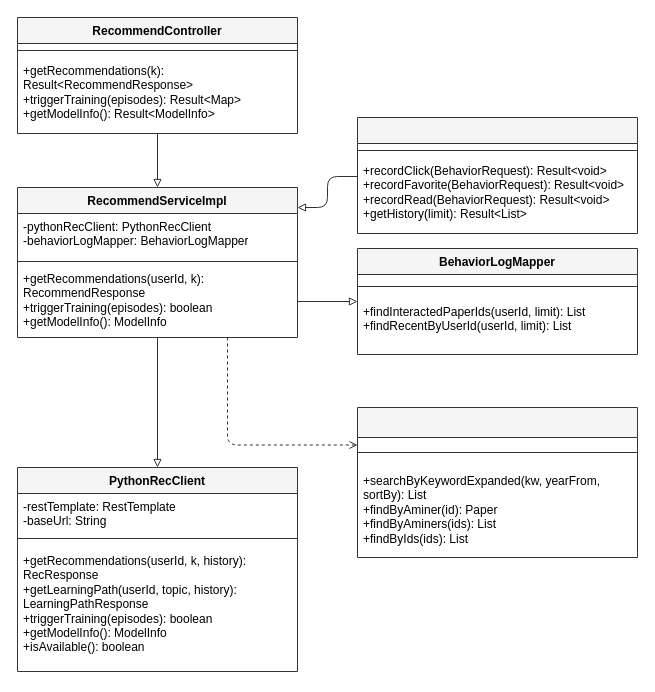
Some shapes in this 655 by 692 pixel diagram are drawn without their labels. The box of each missing label's shape, as (x1, y1, x2, y2) in pixels:
BehaviorController: (356, 116, 638, 234)
PaperMapper: (356, 406, 638, 558)
